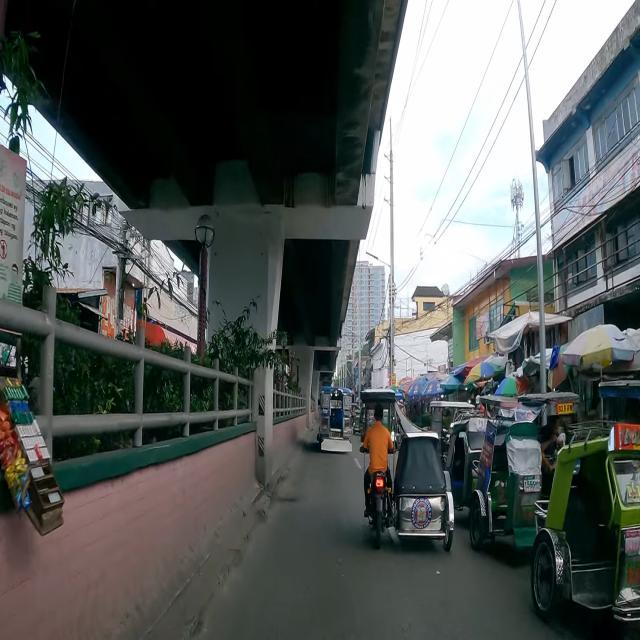jeepney: (318, 384, 354, 452)
tricycle: (533, 418, 640, 624), (468, 390, 582, 554), (359, 389, 454, 552), (442, 393, 522, 512), (352, 403, 360, 436)
